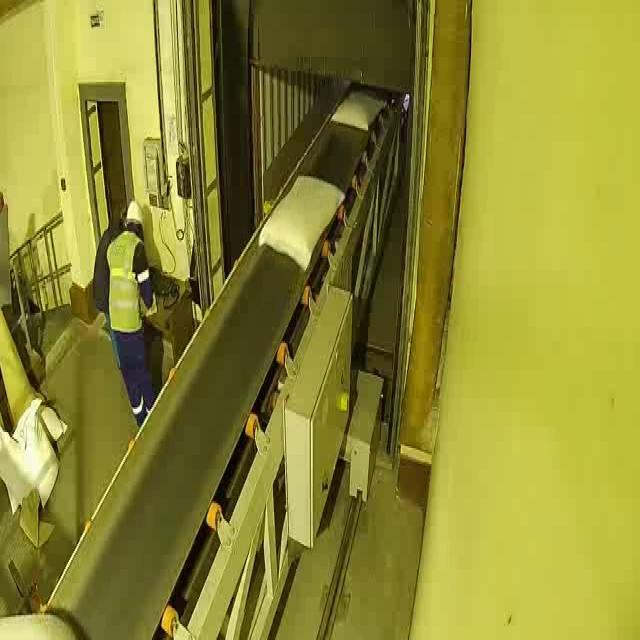bag: (257, 174, 344, 268), (0, 608, 88, 638), (330, 89, 387, 131)
